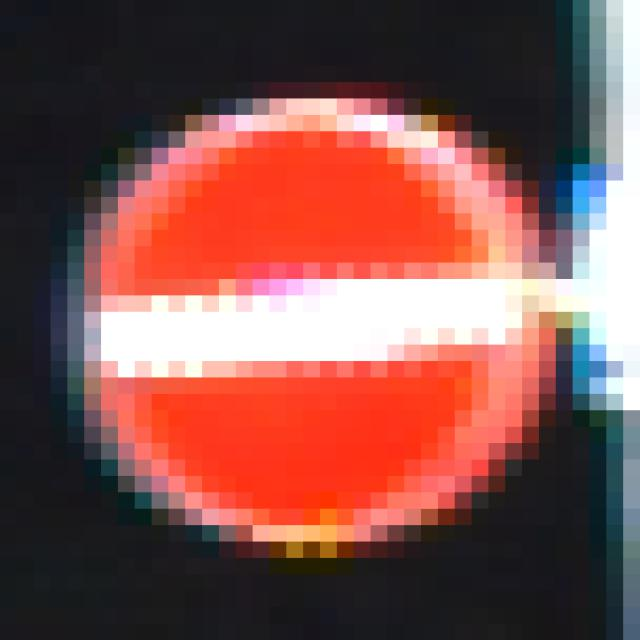No Entry: (85, 83, 540, 559)
